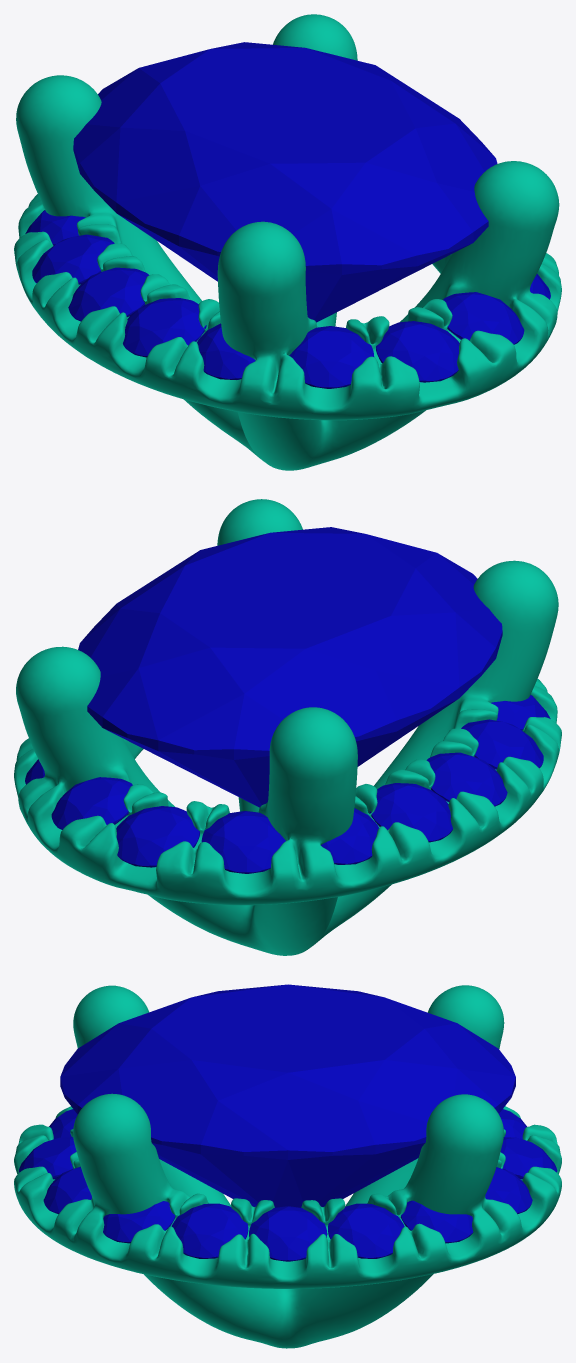
File: Oval.glb
3 renders of one model, top to bottom at view 1: azimuth 30°, elevation 25°; view 2: azimuth 150°, elevation 25°; view 3: azimuth 270°, elevation 25°, orthographic. The views are drawn at different scales.
Visible parts, largest first — view 1: /Oval Single Halo.3dm, Diamond_Oval, Diamond_Round (×8); view 2: /Oval Single Halo.3dm, Diamond_Oval, Diamond_Round (×8); view 3: Diamond_Oval, /Oval Single Halo.3dm, Diamond_Round (×11).
Part boxes in pixels (<box>): /Oval Single Halo.3dm: <box>14,14,561,470</box>; Diamond_Oval: <box>73,42,497,322</box>; Diamond_Round (×8): <box>25,210,524,388</box>; /Oval Single Halo.3dm: <box>14,499,561,955</box>; Diamond_Oval: <box>78,527,502,807</box>; Diamond_Round (×8): <box>51,695,550,873</box>; Diamond_Oval: <box>60,984,515,1207</box>; /Oval Single Halo.3dm: <box>14,985,561,1348</box>; Diamond_Round (×11): <box>19,1109,557,1261</box>.
Bounding box in the file's own units: 9.06 × 6.99 × 10.97.
